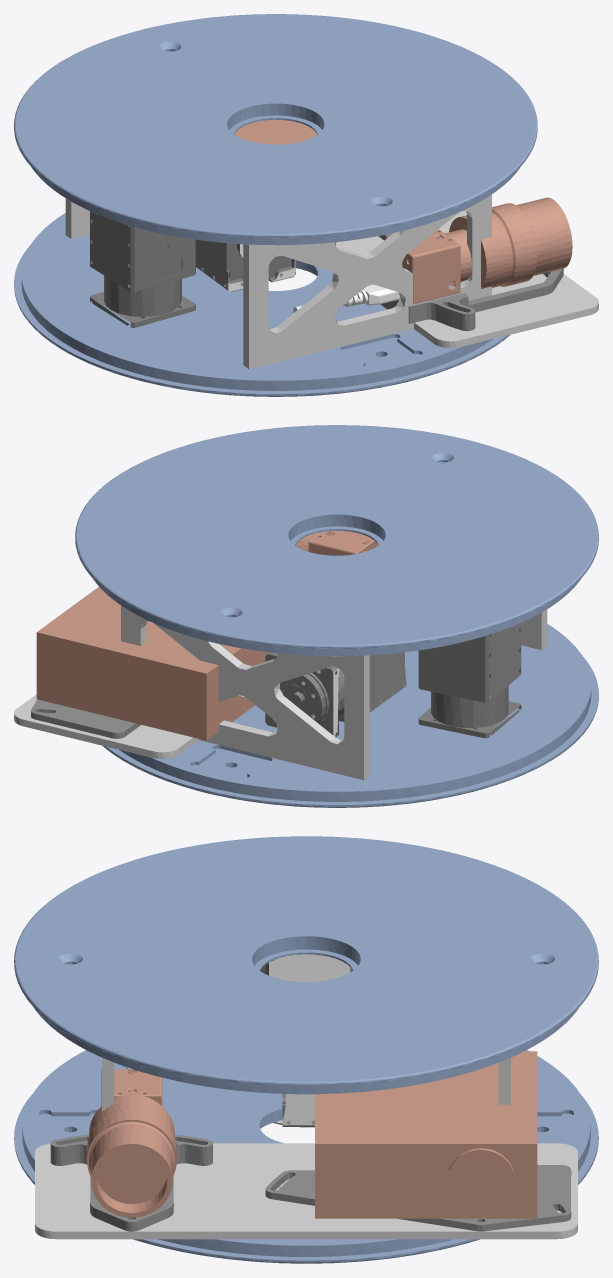
File: c3_head2_assy.dae
3 renders of one model, top to bottom at view 1: azimuth 30°, elevation 25°; view 2: azimuth 150°, elevation 25°; view 3: azimuth 270°, elevation 25°, orthographic. The views are drawn at different scales.
Parts seen in each view (by area): view 1: Untitled_027, Untitled_028, Untitled_016, Camera_PointGrey_Lenz_______003, Untitled_019, HMH003_001, HMH001_001, Untitled_020, Projector_ML750_______001, Untitled_008, Untitled_009, Untitled_017 (+1 smaller); view 2: Untitled_027, Untitled_028, Projector_ML750_______001, Untitled_017, Untitled_019, HMH003_001, Untitled_008, HMH002_001, Untitled_020, Untitled_009, Camera_PointGrey_Lenz_______003, Untitled_016; view 3: Untitled_027, Projector_ML750_______001, HMH003_001, Untitled_028, Camera_PointGrey_Lenz_______003, HMH002_001, HMH001_001, Untitled_022, Untitled_011, Untitled_016, Untitled_017.
Part boxes in pixels (box(x1,y1,x2,y2)): Untitled_027: box(14, 14, 537, 245); Untitled_028: box(14, 213, 510, 396); Untitled_016: box(243, 194, 491, 369); Camera_PointGrey_Lenz_______003: box(386, 197, 572, 304); Untitled_019: box(90, 219, 195, 327); HMH003_001: box(336, 210, 598, 347); HMH001_001: box(381, 268, 563, 331); Untitled_020: box(90, 211, 130, 291); Projector_ML750_______001: box(234, 120, 464, 211); Untitled_008: box(198, 243, 295, 292); Untitled_009: box(196, 239, 227, 289); Untitled_017: box(65, 198, 89, 238); Untitled_027: box(75, 425, 598, 656); Untitled_028: box(102, 624, 598, 807); Projector_ML750_______001: box(36, 587, 319, 740); Untitled_017: box(121, 605, 369, 780); Untitled_019: box(418, 628, 521, 738); HMH003_001: box(14, 694, 198, 758); Untitled_008: box(265, 652, 405, 737); HMH002_001: box(31, 699, 141, 738); Untitled_020: box(489, 623, 521, 701); Untitled_009: box(369, 652, 406, 711); Camera_PointGrey_Lenz_______003: box(295, 531, 378, 555); Untitled_016: box(521, 609, 547, 649); Untitled_027: box(14, 836, 598, 1094); Projector_ML750_______001: box(315, 1051, 537, 1218); HMH003_001: box(35, 1143, 577, 1239); Untitled_028: box(14, 1050, 598, 1263); Camera_PointGrey_Lenz_______003: box(87, 1069, 176, 1217); HMH002_001: box(265, 1165, 571, 1231); HMH001_001: box(50, 1134, 212, 1231); Untitled_022: box(269, 954, 350, 981); Untitled_011: box(282, 1094, 314, 1125); Untitled_016: box(102, 1057, 114, 1111); Untitled_017: box(498, 1057, 510, 1164).
Bounding box in the file's own units: 0.2801 × 0.2802 × 0.113.
